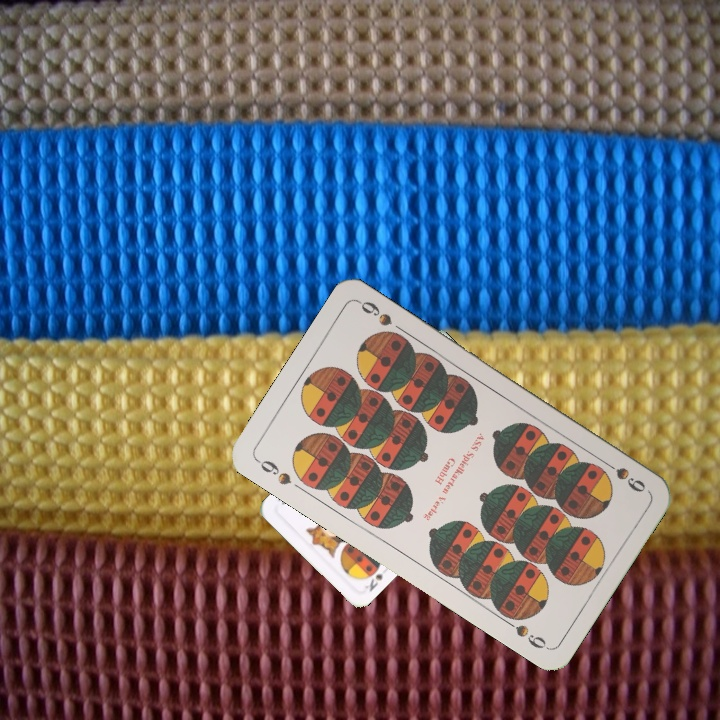S9: (597, 455, 649, 495), (252, 455, 294, 488)
SK: (361, 570, 385, 594)
